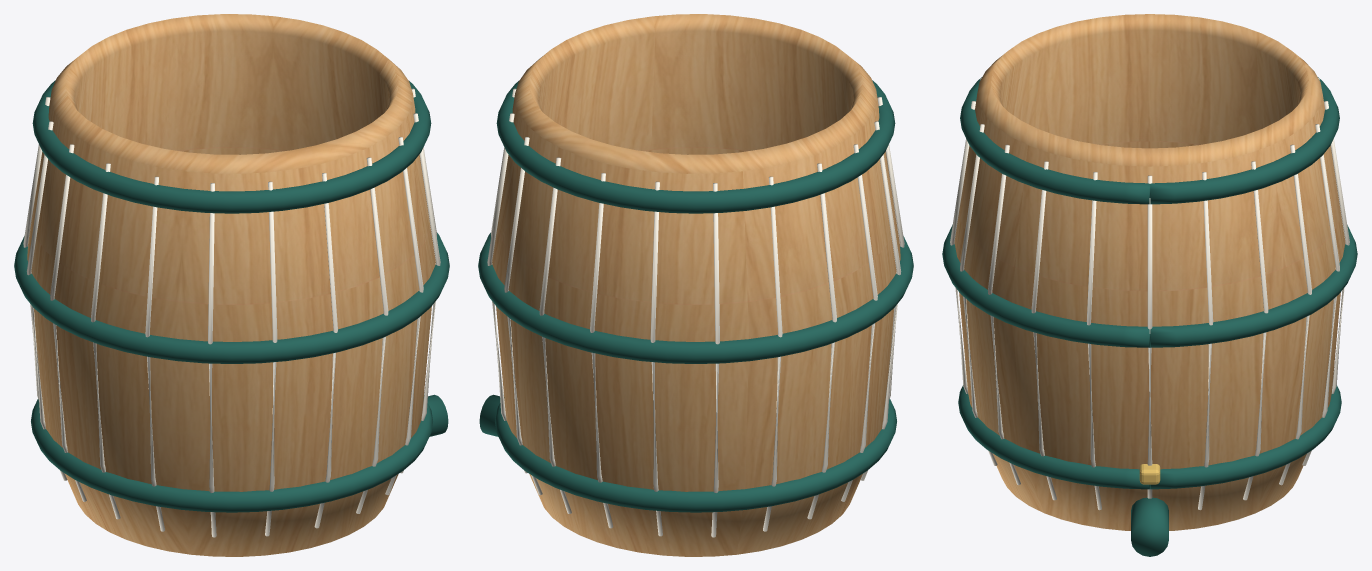
File: rain_barrel.glb
3 renders of one model, left to right at view 1: azimuth 30°, elevation 25°; view 2: azimuth 150°, elevation 25°; view 3: azimuth 270°, elevation 25°, orthographic. The views are drawn at different scales.
Visible parts, largest first — view 1: rain_barrel; view 2: rain_barrel; view 3: rain_barrel.
Part boxes in pixels (left/top/right/bottom): rain_barrel: left=14, top=14, right=449, bottom=556; rain_barrel: left=478, top=14, right=913, bottom=556; rain_barrel: left=942, top=14, right=1357, bottom=556.
Size of the model in its own units: 0.957 by 0.94 by 0.914.
4 materials, 1 textured.
